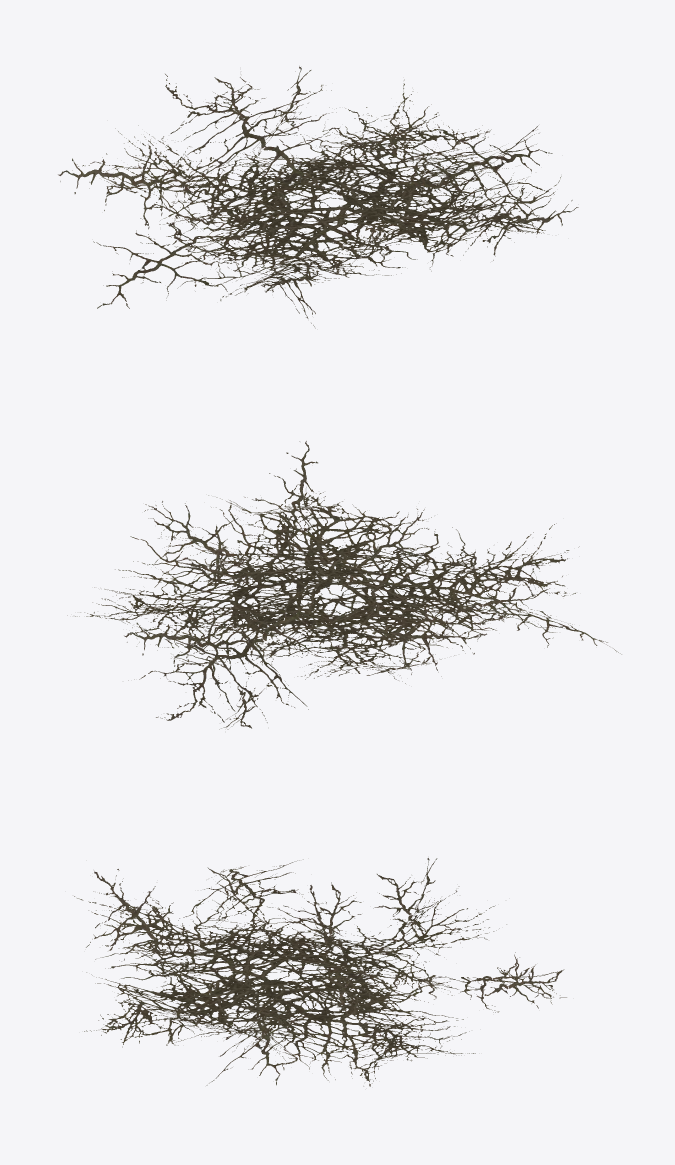
The model's file is Plant - Alien Roots Cover-BGMxGrch.glb.
3 views of the same model, one above another, from view 1: azimuth 30°, elevation 25°; view 2: azimuth 150°, elevation 25°; view 3: azimuth 270°, elevation 25° (orthographic).
Visible parts, largest first — view 1: Roots_Cover1(Clone); view 2: Roots_Cover1(Clone); view 3: Roots_Cover1(Clone).
Part boxes in pixels (x1,y1,x2,y2): Roots_Cover1(Clone): (58,66,578,328); Roots_Cover1(Clone): (67,441,621,729); Roots_Cover1(Clone): (74,858,566,1086).
Size of the model in its own units: 7.05 by 1.85 by 7.15.
Materials: 1 (1 with a texture image).
